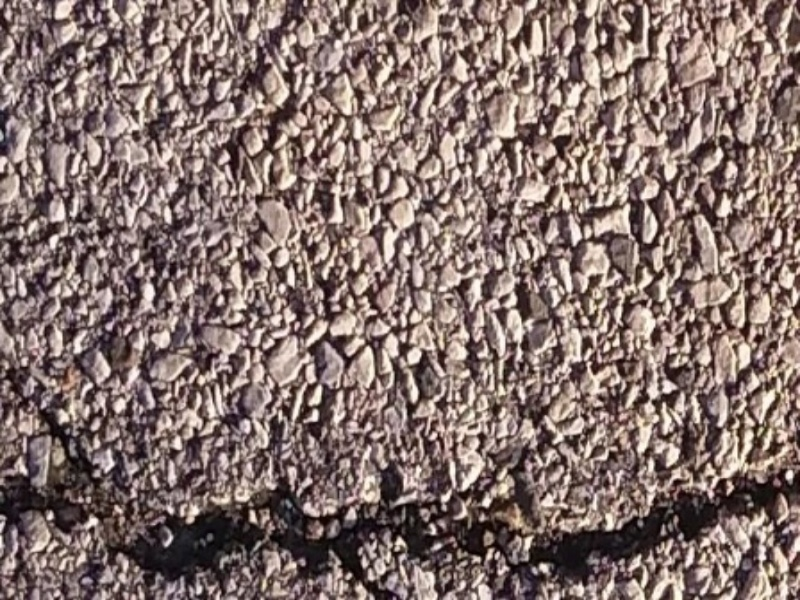crack: (4, 372, 787, 585)
